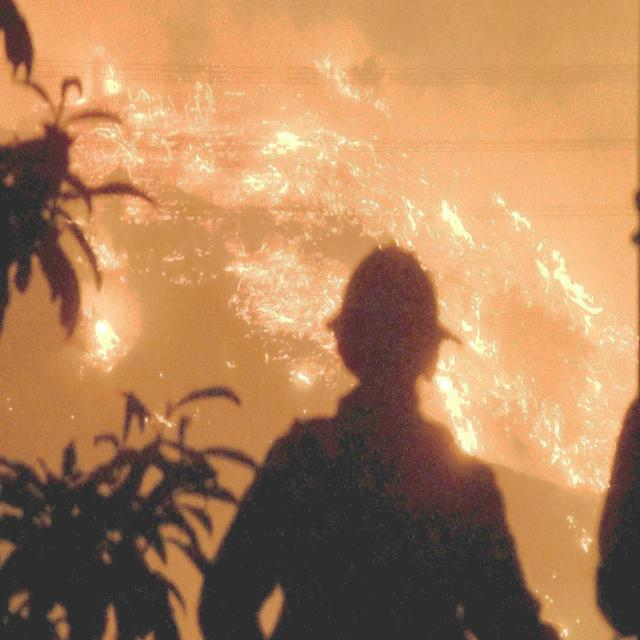api: (492, 185, 636, 353), (222, 230, 353, 392), (129, 77, 223, 185), (424, 353, 505, 470), (527, 380, 603, 502), (315, 51, 394, 121), (430, 189, 482, 258), (232, 160, 302, 208), (248, 115, 313, 164), (85, 299, 129, 368), (86, 37, 130, 103), (82, 220, 127, 282), (90, 110, 141, 161)
